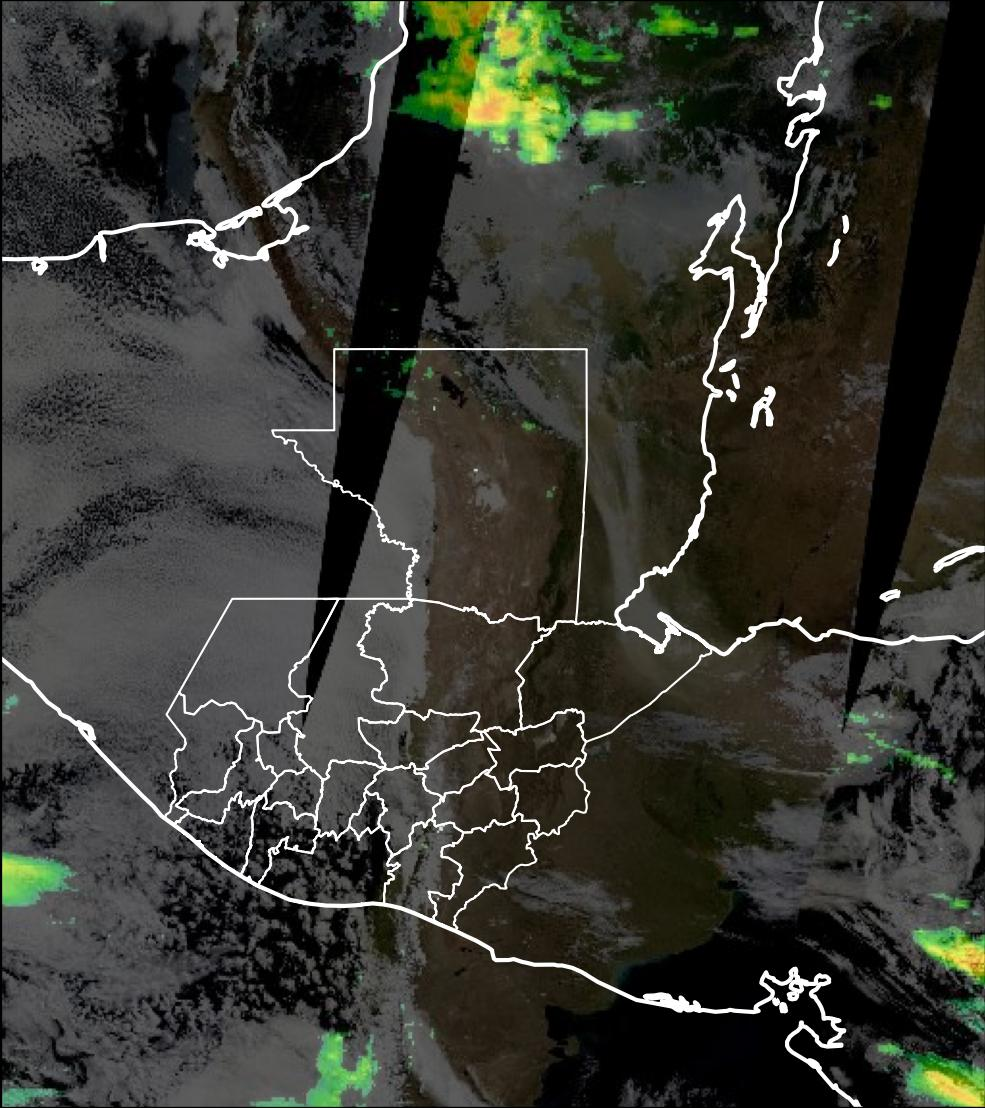precipitacion: (423, 43, 559, 165)
